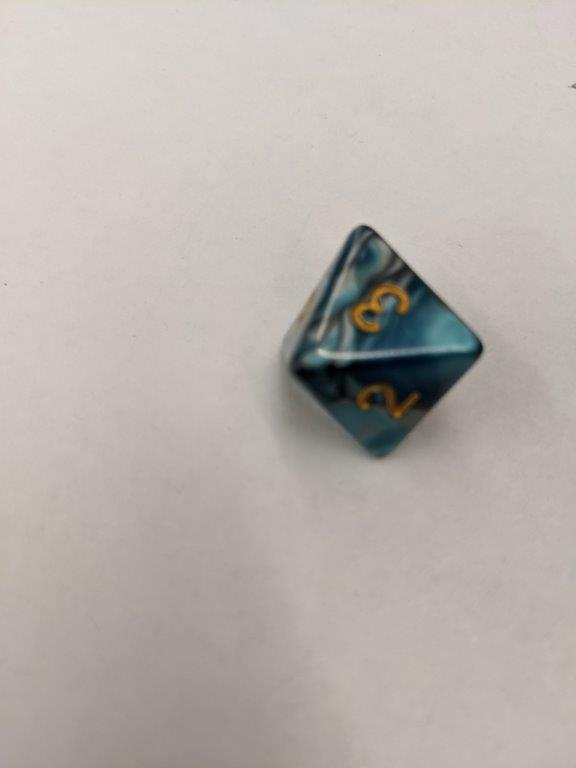d8-3: (277, 222, 484, 465)
